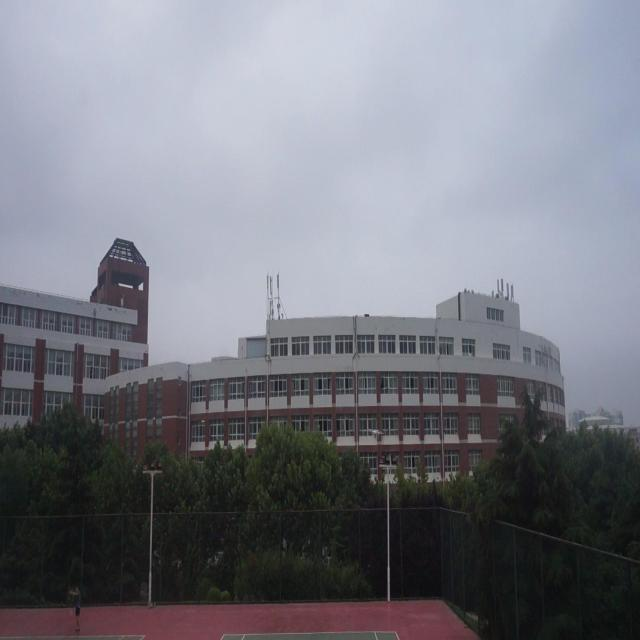drone: (368, 425, 382, 440)
